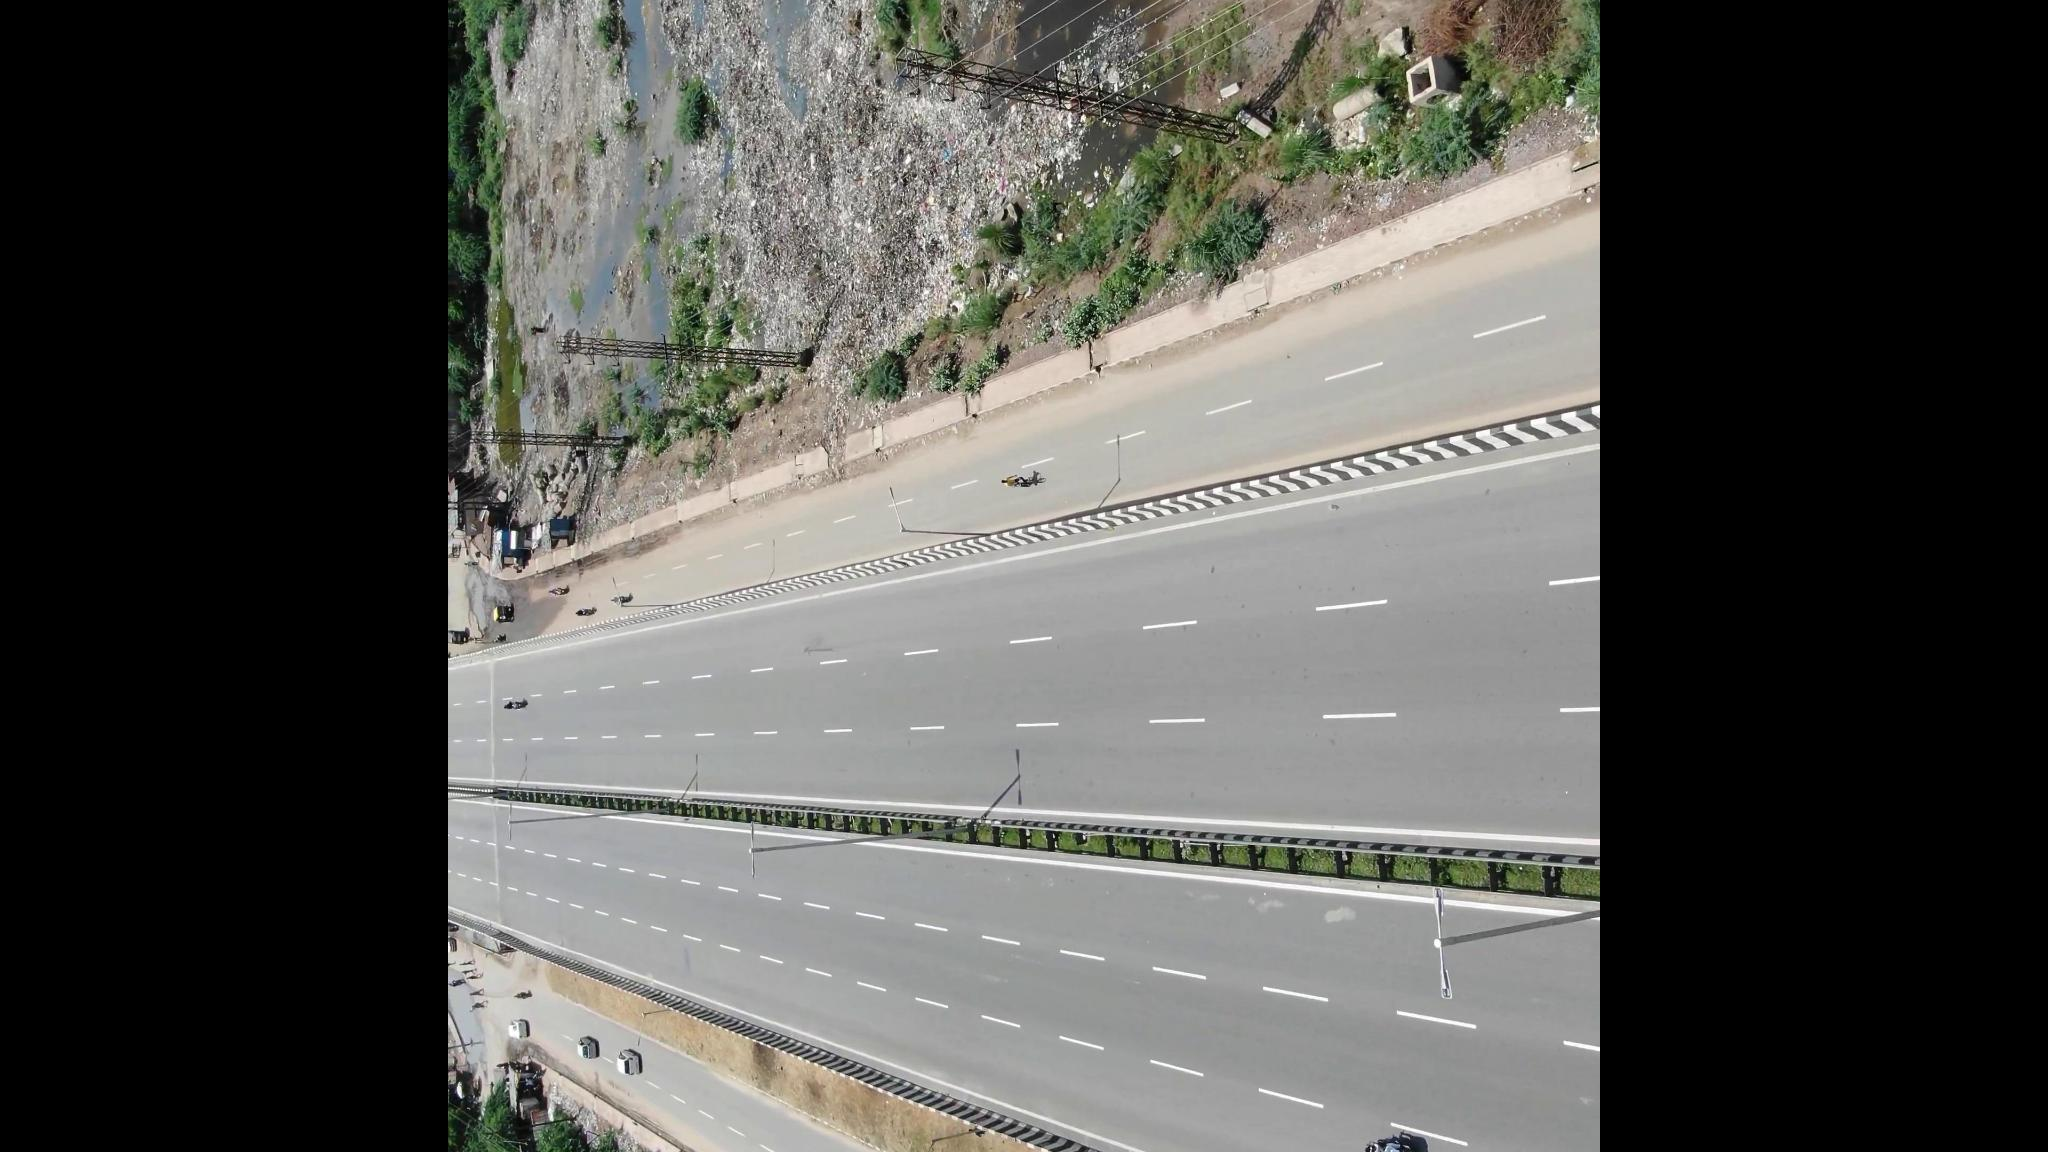Road_side_garbage: (734, 75, 994, 354)
